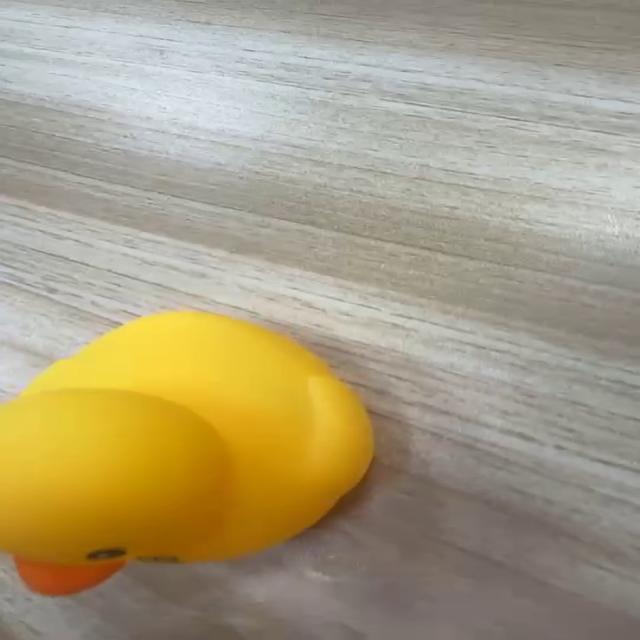yellow_duck: (1, 308, 376, 596)
